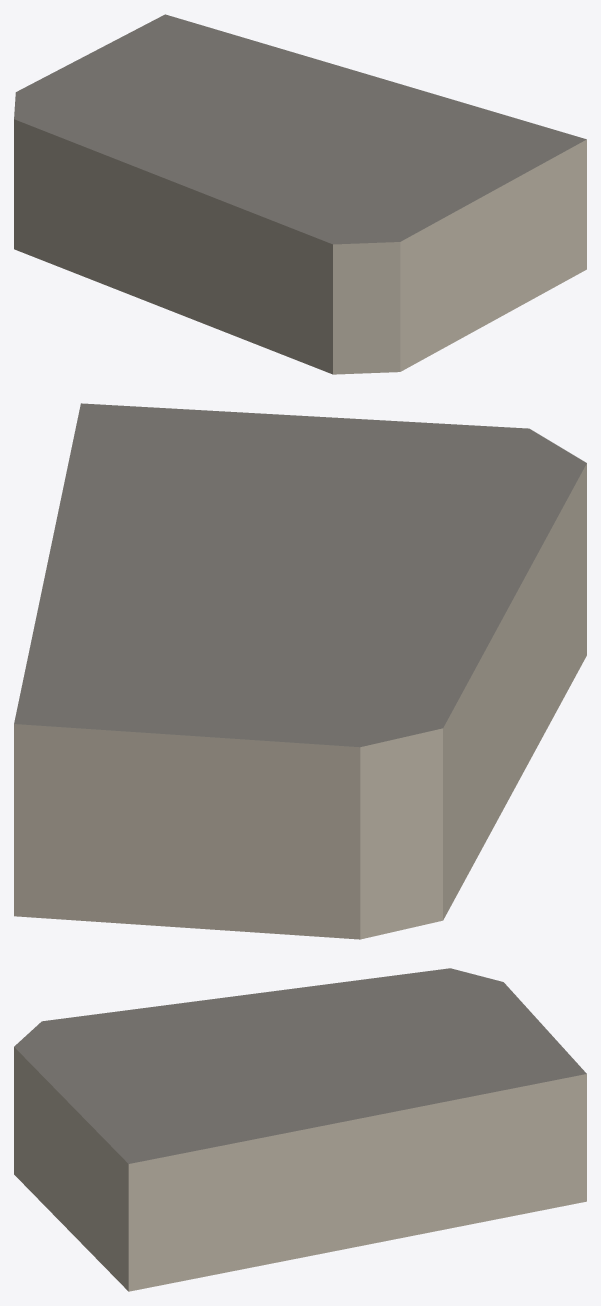
The picture shows the model from 3 angles, top to bottom: view 1: azimuth 30°, elevation 25°; view 2: azimuth 150°, elevation 25°; view 3: azimuth 270°, elevation 25°; orthographic projection. The views are drawn at different scales.
Visible parts, largest first — view 1: HP-w495108006; view 2: HP-w495108006; view 3: HP-w495108006.
Part boxes in pixels (x1=…): HP-w495108006: x1=14, y1=14, x2=586, y2=374; HP-w495108006: x1=14, y1=403, x2=586, y2=939; HP-w495108006: x1=14, y1=968, x2=586, y2=1291.
Size of the model in its own units: 39.48 by 12 by 48.81.
